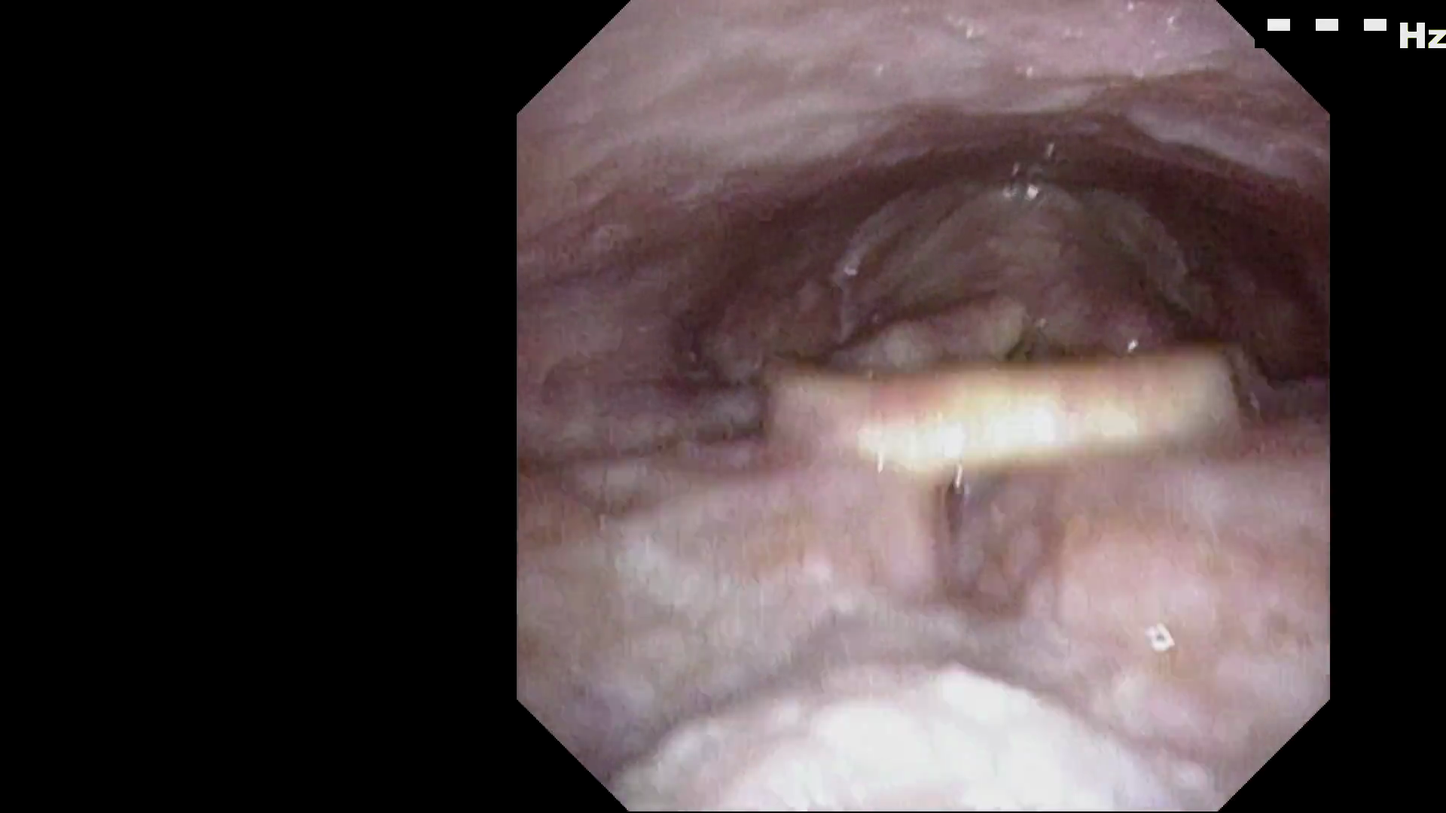epiglottis: (773, 241, 1222, 414)
